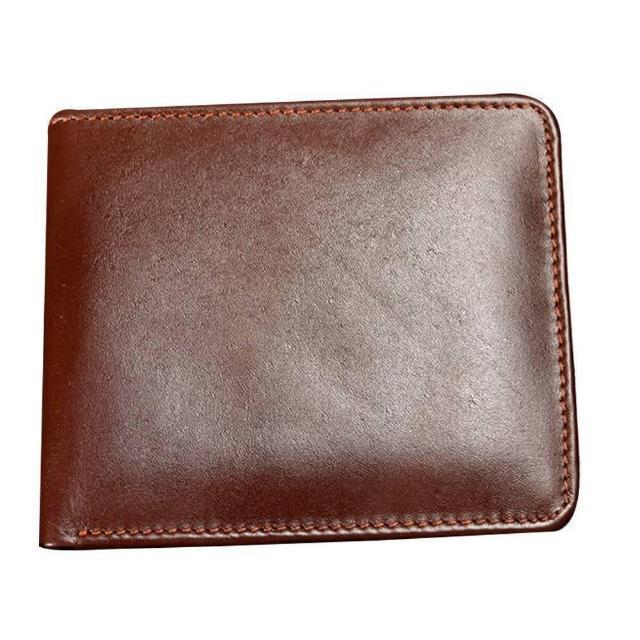wallet: (41, 86, 583, 556)
